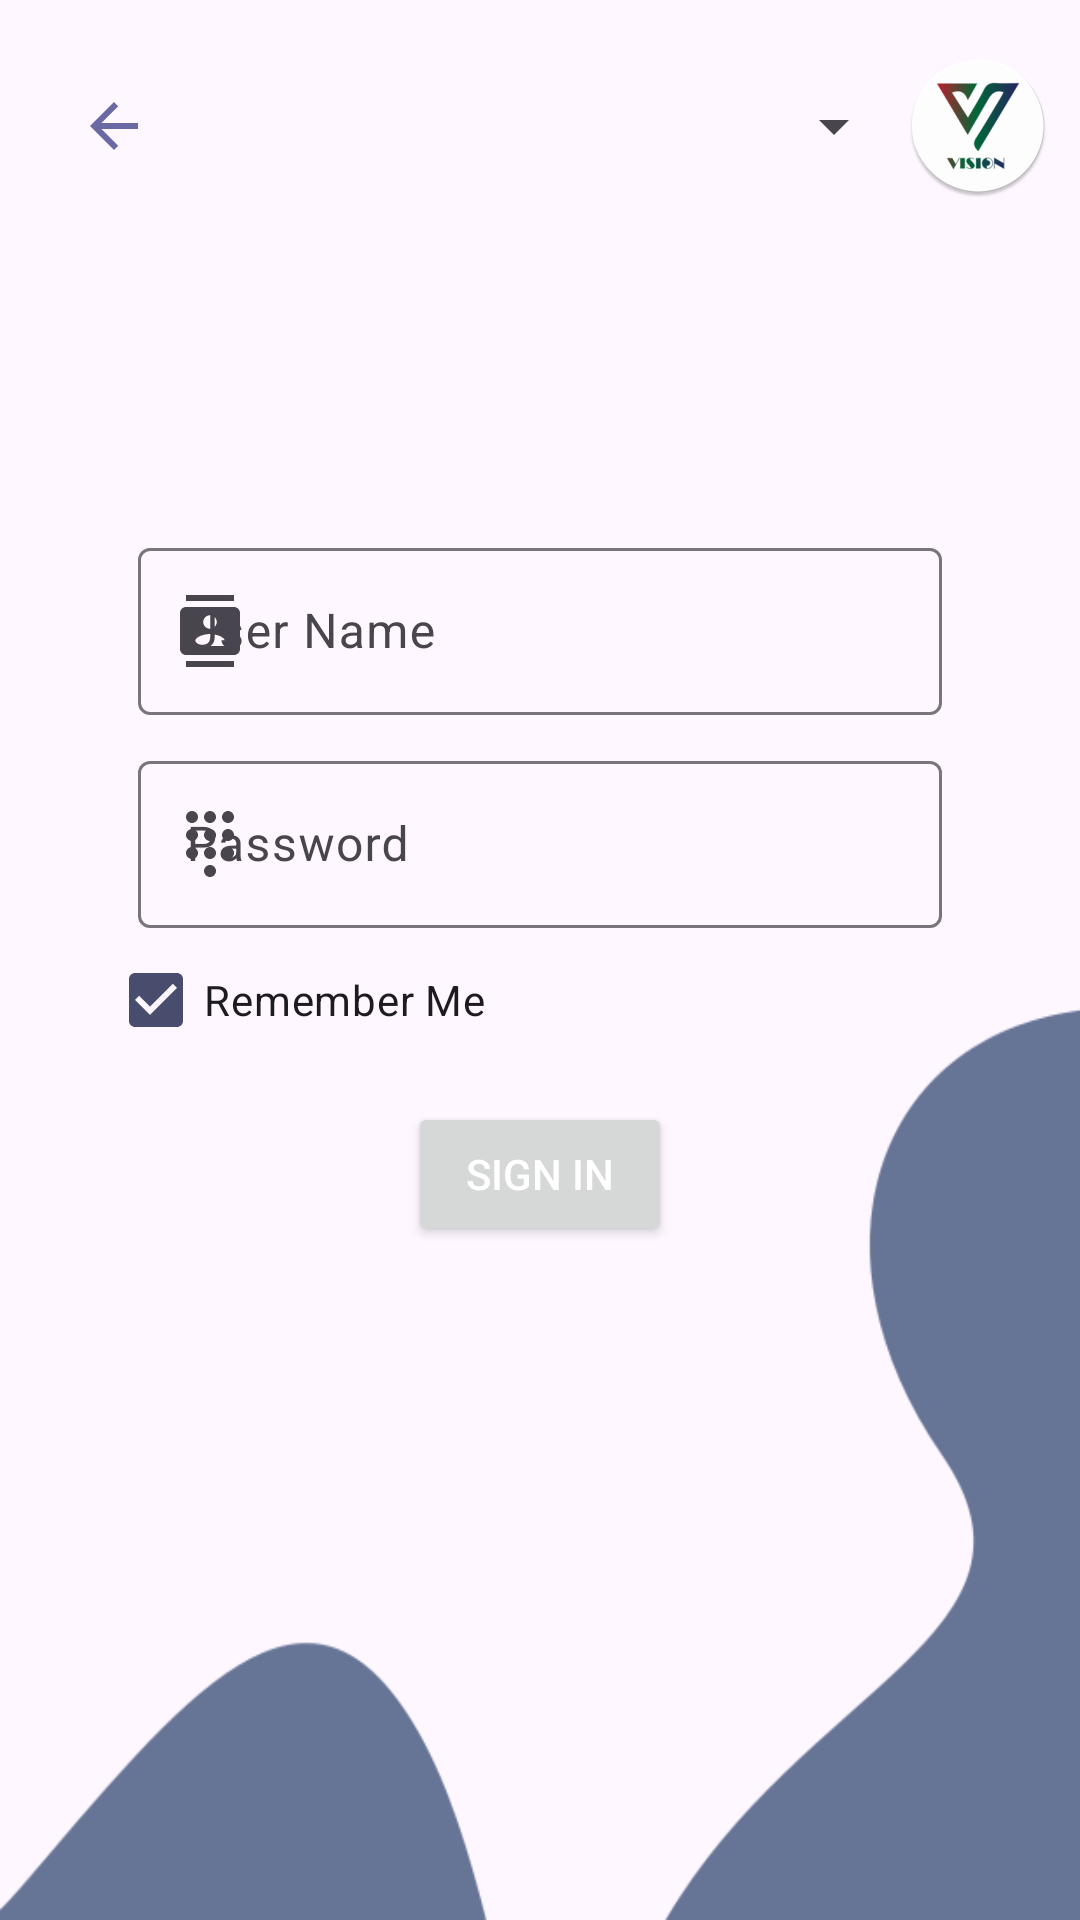

Icon click points for this 1080×1920 phone screenshot, format [x,y]:
arrow back: [114,126]
